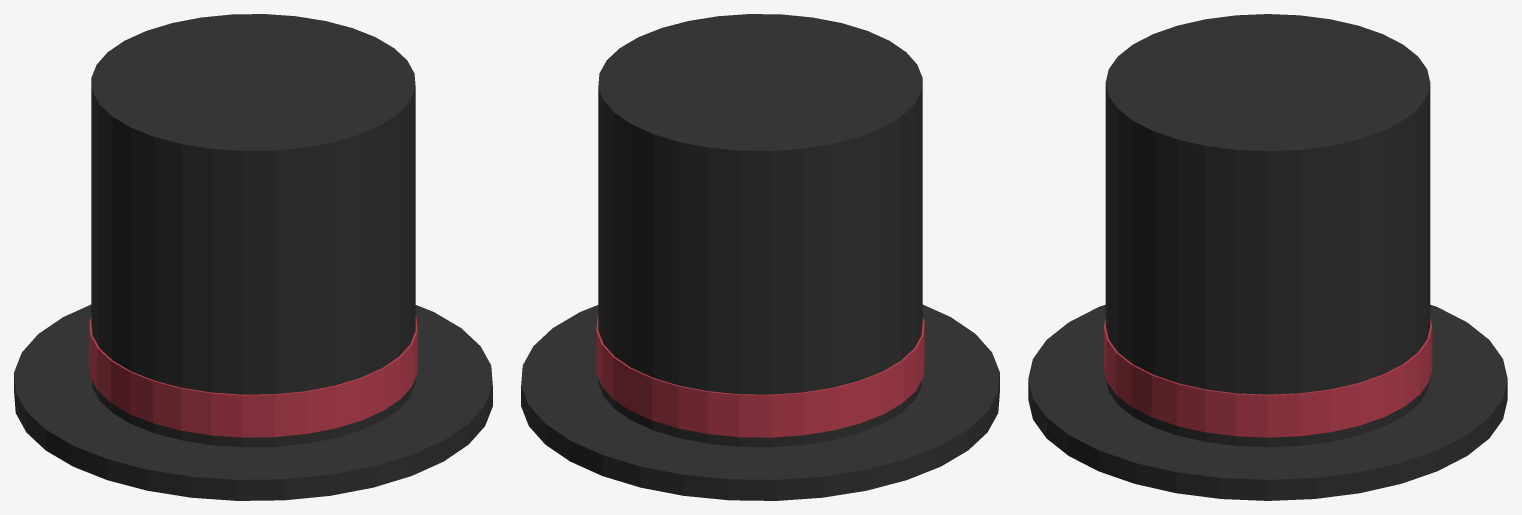
File: TopHat.glb
3 renders of one model, left to right at view 1: azimuth 30°, elevation 25°; view 2: azimuth 150°, elevation 25°; view 3: azimuth 270°, elevation 25°, orthographic.
Parts seen in each view (by area): view 1: TopHat_Body, TopHat_Brim, TopHat_Band; view 2: TopHat_Body, TopHat_Brim, TopHat_Band; view 3: TopHat_Body, TopHat_Brim, TopHat_Band.
Boxes of the visible parts, <box> form: TopHat_Body: <box>91,14,415,447</box>; TopHat_Brim: <box>14,304,492,500</box>; TopHat_Band: <box>89,316,417,437</box>; TopHat_Body: <box>598,14,922,447</box>; TopHat_Brim: <box>521,304,999,500</box>; TopHat_Band: <box>596,316,924,437</box>; TopHat_Body: <box>1105,14,1430,447</box>; TopHat_Brim: <box>1028,304,1507,500</box>; TopHat_Band: <box>1103,318,1432,437</box>.
Size of the model in its own units: 1.24 by 0.905 by 1.24.
